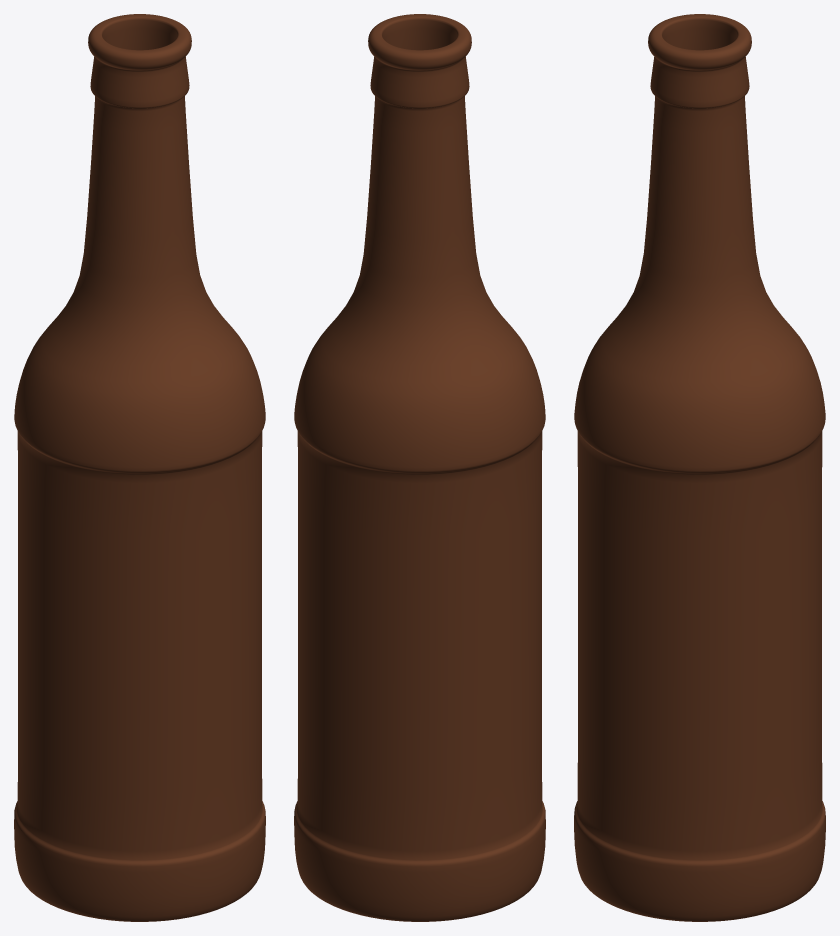
The model's file is Beer bottle.fbx.
3 renders of one model, left to right at view 1: azimuth 30°, elevation 25°; view 2: azimuth 150°, elevation 25°; view 3: azimuth 270°, elevation 25°, orthographic.
Parts seen in each view (by area): view 1: Beer Bottle 330ml; view 2: Beer Bottle 330ml; view 3: Beer Bottle 330ml.
Boxes of the visible parts, bbox=[...] form: Beer Bottle 330ml: bbox=[14, 14, 265, 921]; Beer Bottle 330ml: bbox=[294, 14, 545, 921]; Beer Bottle 330ml: bbox=[574, 14, 825, 921].
Bounding box in the file's own units: 6.26 × 23 × 6.26.
